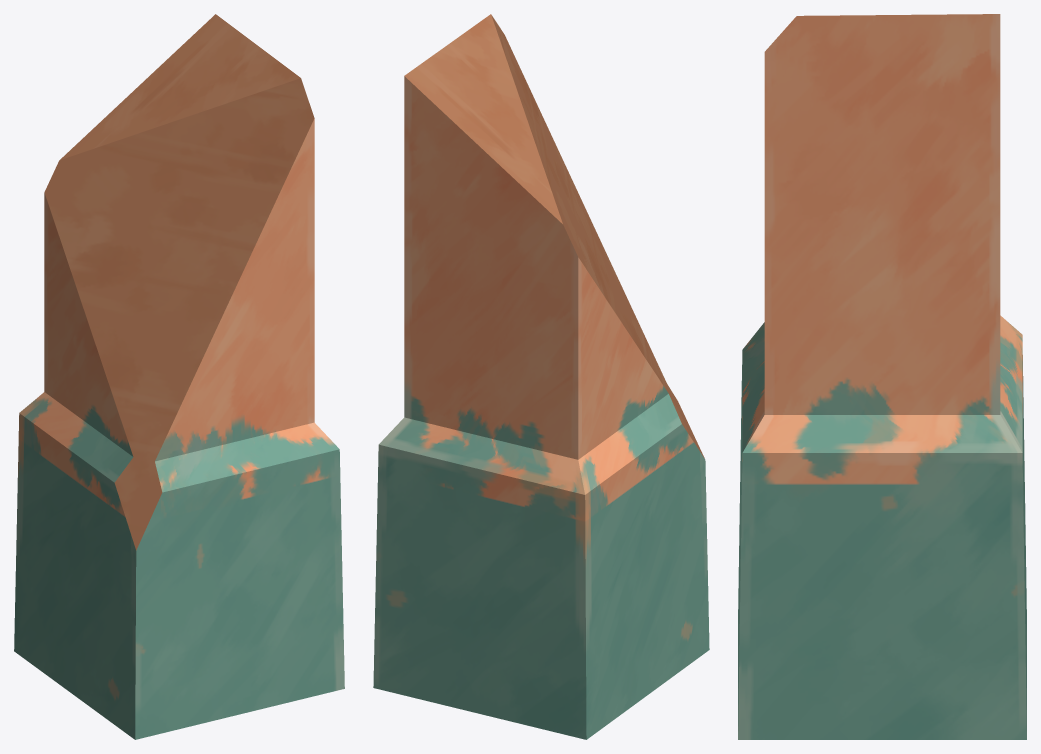
The model's file is corner_s03.fbx.
3 renders of one model, left to right at view 1: azimuth 30°, elevation 25°; view 2: azimuth 150°, elevation 25°; view 3: azimuth 270°, elevation 25°, orthographic. The views are drawn at different scales.
Parts seen in each view (by area): view 1: corner_s03; view 2: corner_s03; view 3: corner_s03.
Part boxes in pixels (left/top/right/bottom): corner_s03: left=14, top=14, right=344, bottom=739; corner_s03: left=373, top=14, right=709, bottom=739; corner_s03: left=738, top=14, right=1026, bottom=739.
Bounding box in the file's own units: 1.84 × 5.01 × 1.84.
